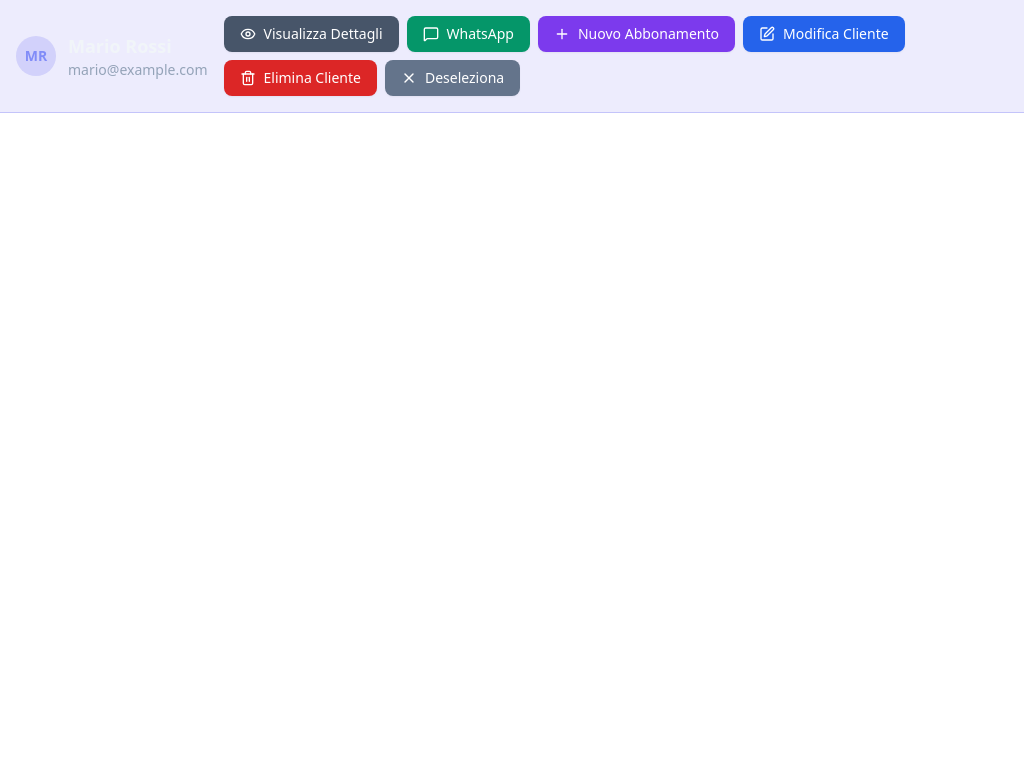
ClientToolbar - Button Click Handlers › Apre il modale Dettagli quando clicchi il pulsante
This screenshot has width=1024, height=768.
Click the button "Visualizza Dettagli". click: (311,34)
box: [224, 16, 398, 52]
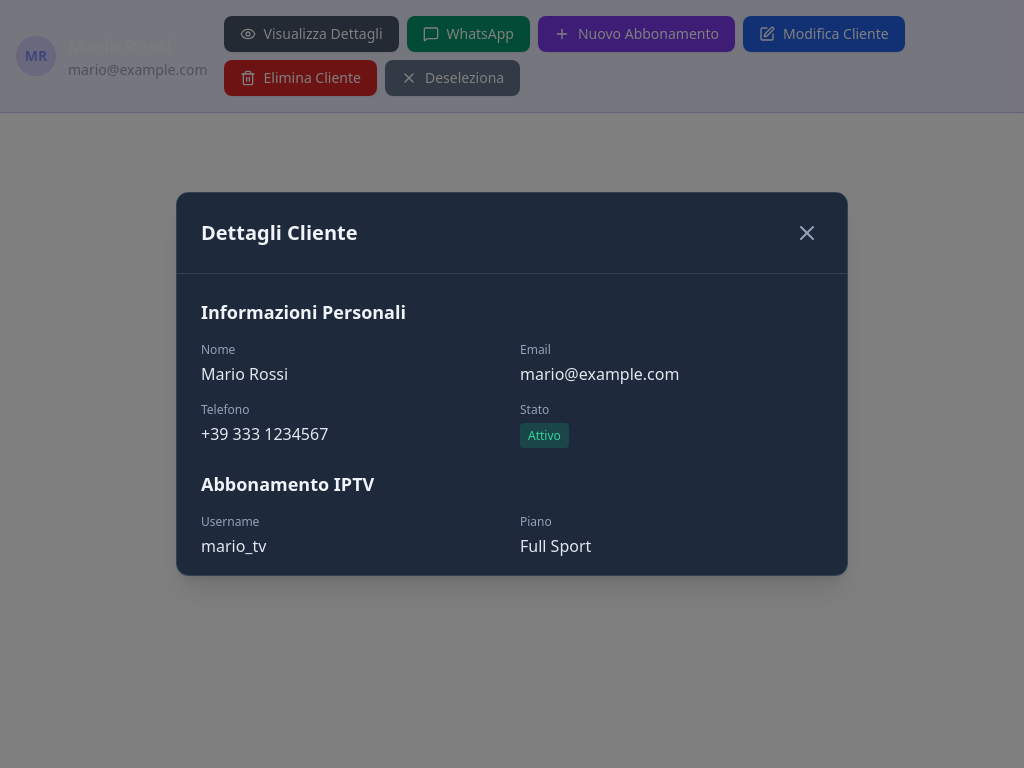
Result: the heading "Dettagli Cliente" is shown at [201, 219, 358, 247]
